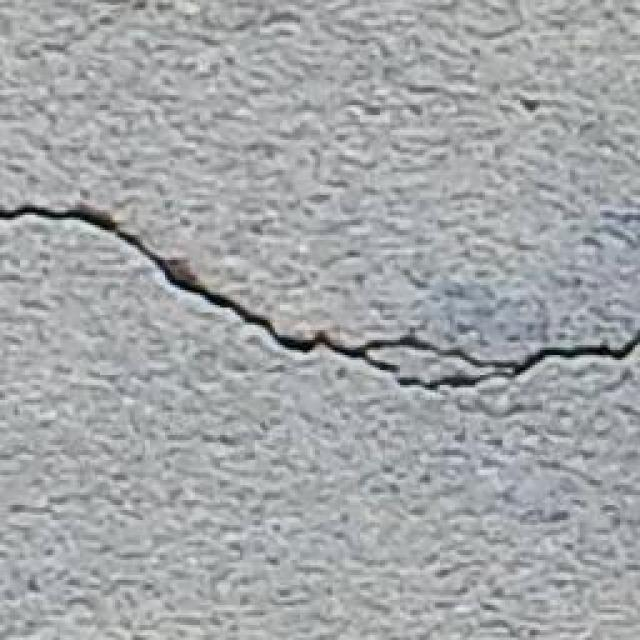concrete-crack: (2, 203, 353, 358), (354, 334, 640, 376), (359, 354, 518, 391)
